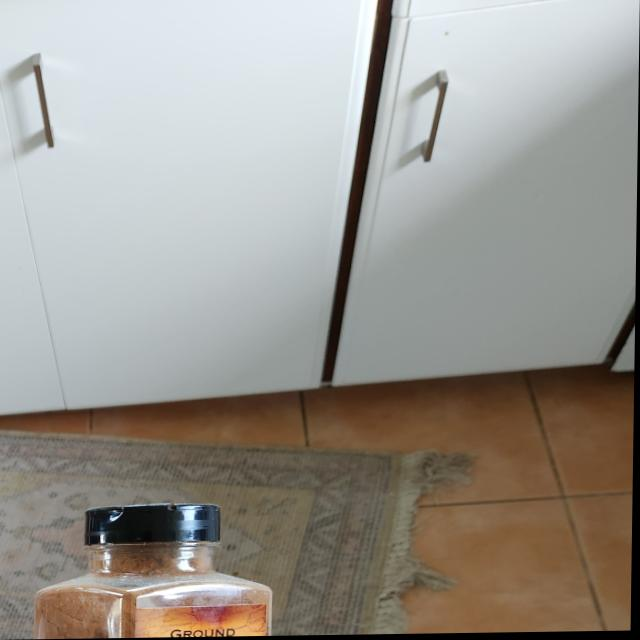cinnamon: (35, 501, 277, 640)
